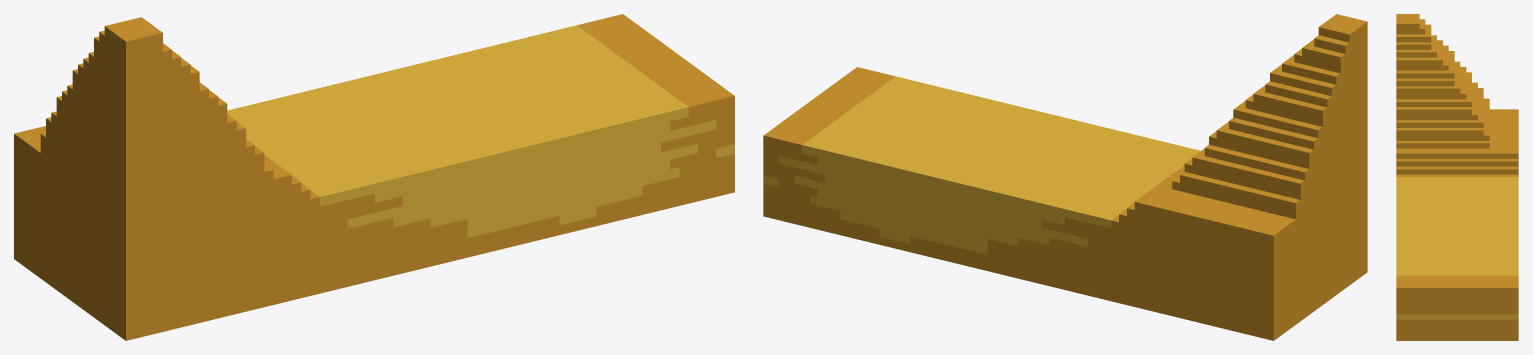
The model's file is sha2.obj.
3 views of the same model, side by side, from view 1: azimuth 30°, elevation 25°; view 2: azimuth 150°, elevation 25°; view 3: azimuth 270°, elevation 25° (orthographic). The views are drawn at different scales.
Bounding box in the file's own units: 66 × 31 × 21.
1 material, 1 textured.
